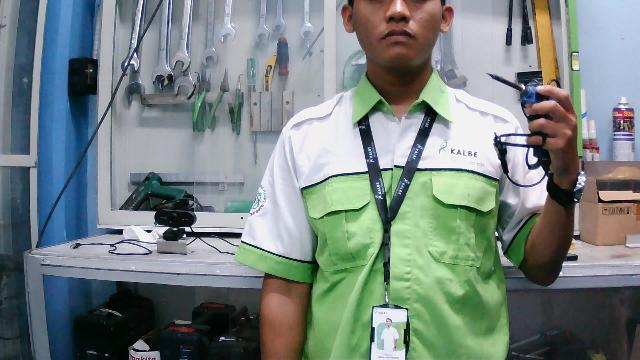solder_electrical: (484, 70, 566, 188)
